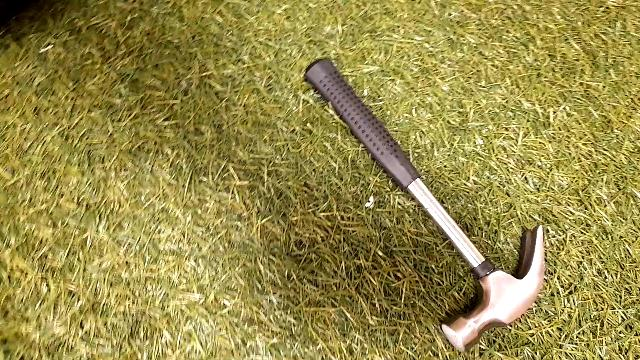hammer: (284, 43, 552, 353)
